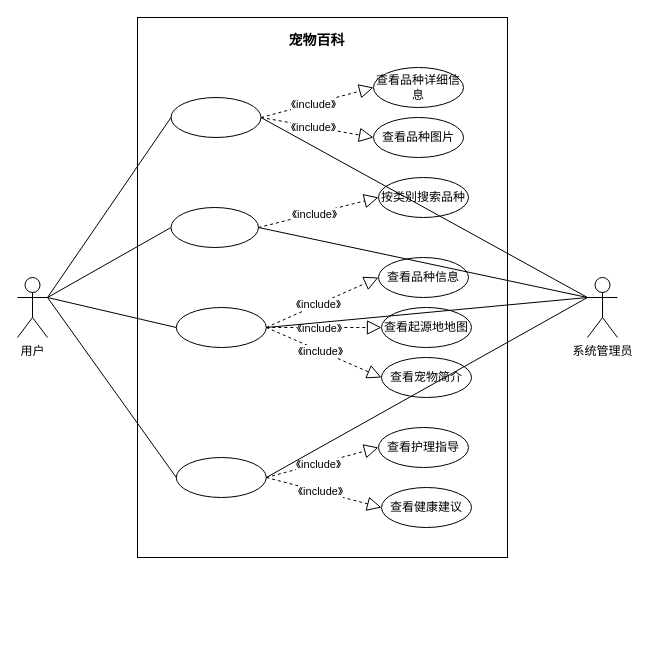
The diagram is 650 pixels wide and 663 high, and some of its shapes have lost their labels. The centre of each missing label's shape, as x and y in pixels:
查看健康护理知识: point 220,477
浏览品种分类信息: point 214,227
浏览品种特性: point 215,117
获取品种百科: point 220,327
